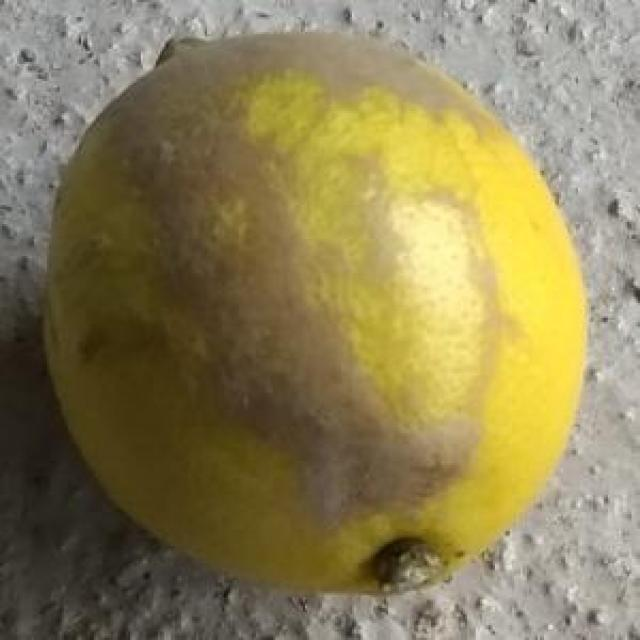lemon: (46, 26, 590, 604)
